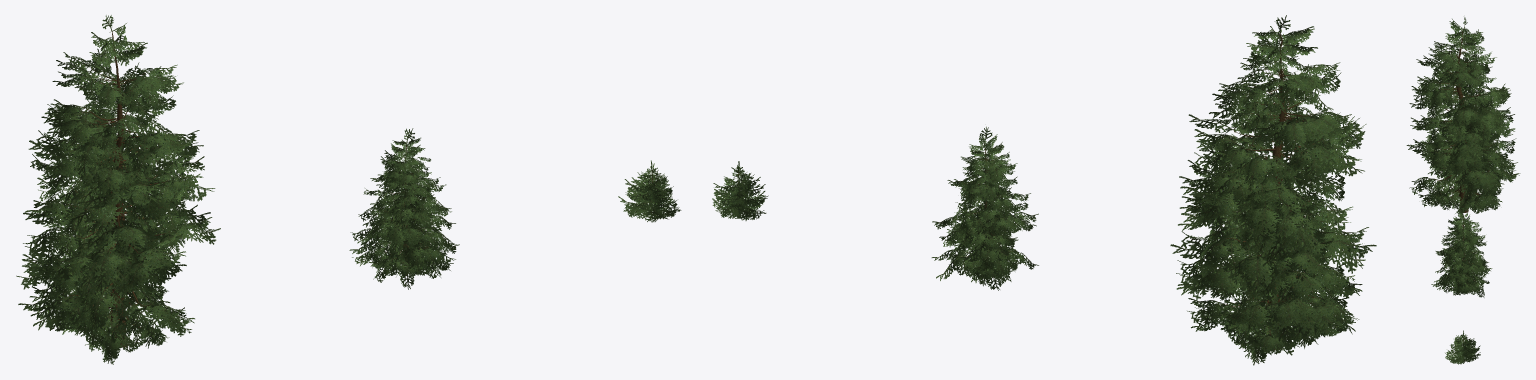
3 renders of one model, left to right at view 1: azimuth 30°, elevation 25°; view 2: azimuth 150°, elevation 25°; view 3: azimuth 270°, elevation 25°, orthographic. The views are drawn at different scales.
Visible parts, largest first — view 1: Christmas tree_LOD0, Christmas tree_2_LOD0, Christmas tree_3_LOD0; view 2: Christmas tree_LOD0, Christmas tree_2_LOD0, Christmas tree_3_LOD0; view 3: Christmas tree_LOD0, Christmas tree_2_LOD0, Christmas tree_3_LOD0.
Boxes of the visible parts, left/top/right/bottom form: Christmas tree_LOD0: left=16, top=15, right=220, bottom=364; Christmas tree_2_LOD0: left=349, top=128, right=459, bottom=289; Christmas tree_3_LOD0: left=618, top=160, right=681, bottom=222; Christmas tree_LOD0: left=1170, top=15, right=1376, bottom=365; Christmas tree_2_LOD0: left=931, top=126, right=1038, bottom=290; Christmas tree_3_LOD0: left=712, top=161, right=768, bottom=220; Christmas tree_LOD0: left=1406, top=17, right=1520, bottom=215; Christmas tree_2_LOD0: left=1431, top=207, right=1492, bottom=297; Christmas tree_3_LOD0: left=1445, top=330, right=1480, bottom=364.
Size of what is drawn, in the model's own units: 18.76 by 9.3 by 5.04.
2 materials, 2 textured.
